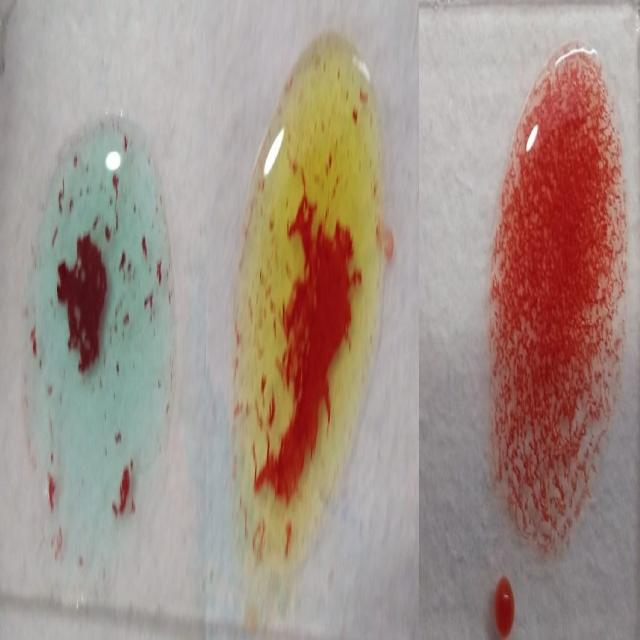A: (27, 120, 177, 553)
B: (235, 35, 384, 554)
D: (491, 43, 621, 553)
